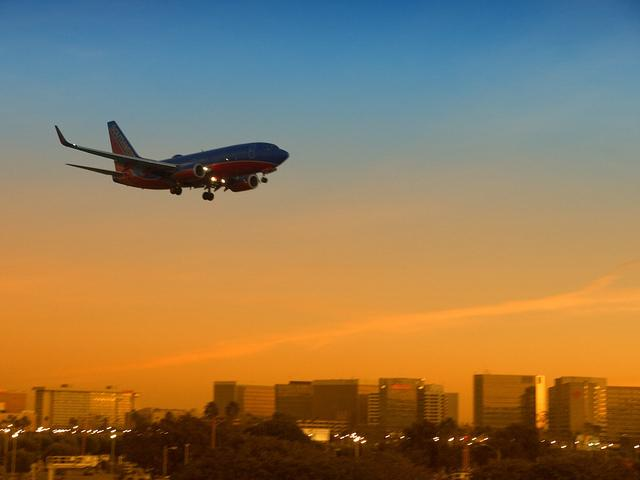airplane: (53, 118, 291, 203)
